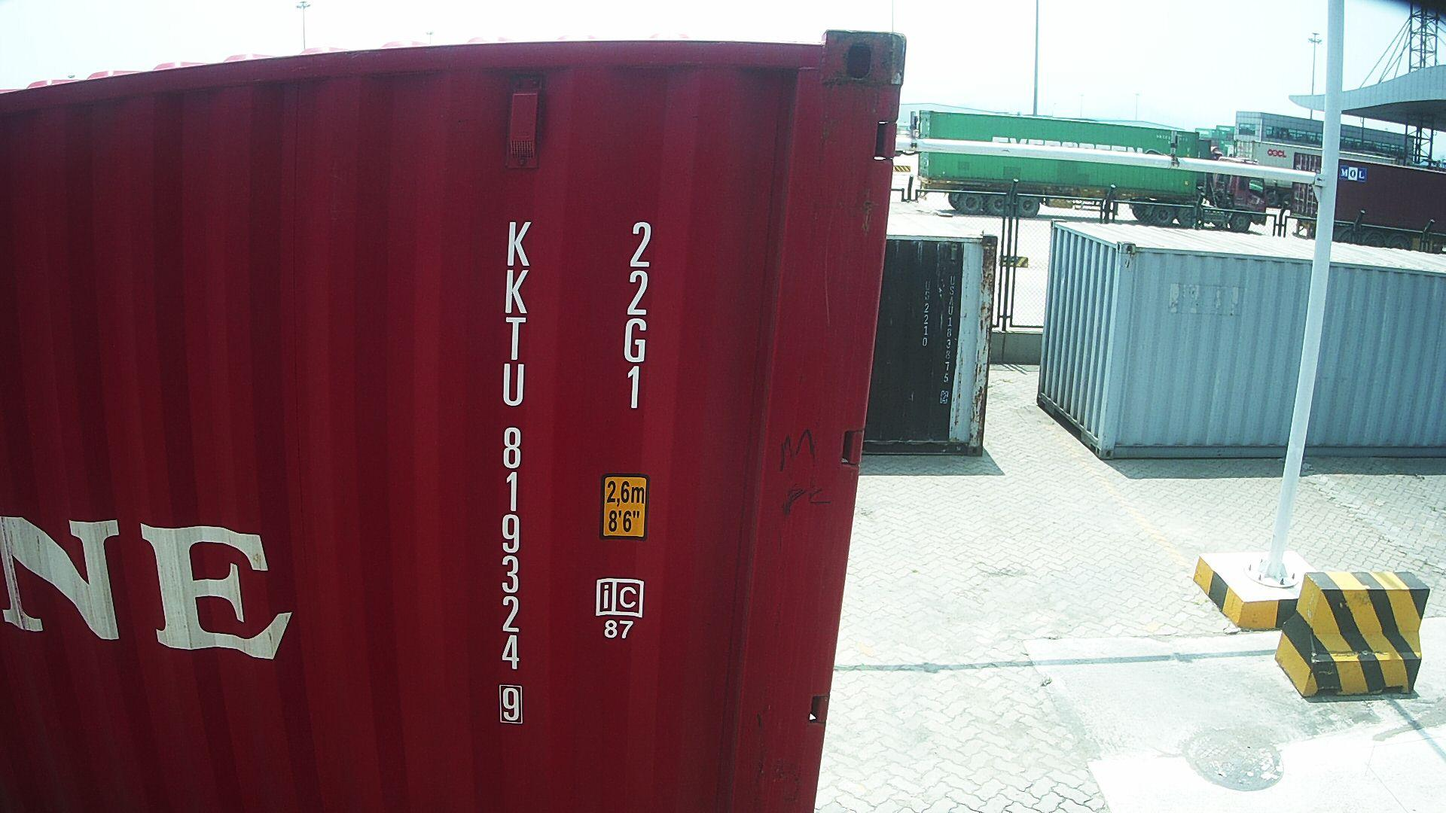container-numbers: (492, 216, 534, 731), (617, 218, 659, 414)
